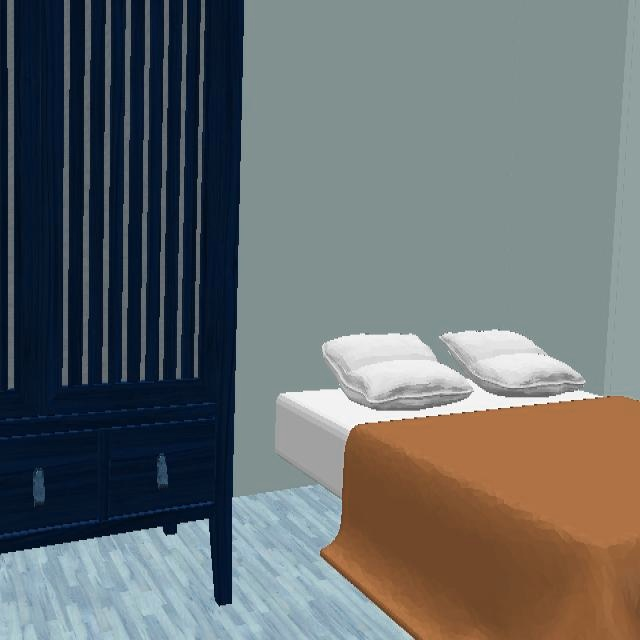bed: (275, 332, 640, 640)
pillow: (321, 329, 597, 411)
